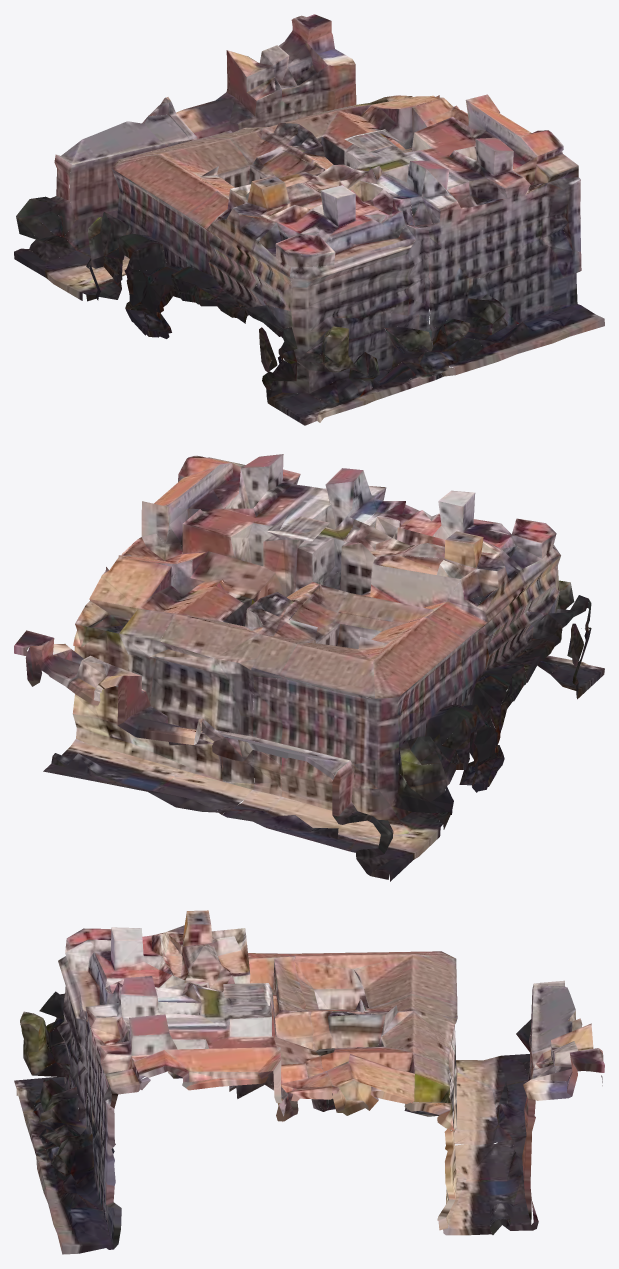
3 renders of one model, top to bottom at view 1: azimuth 30°, elevation 25°; view 2: azimuth 150°, elevation 25°; view 3: azimuth 270°, elevation 25°, orthographic. The views are drawn at different scales.
Visible parts, largest first — view 1: Mesh_0; view 2: Mesh_0; view 3: Mesh_0.
Part boxes in pixels (left/top/right/bottom): Mesh_0: left=14, top=14, right=604, bottom=425; Mesh_0: left=14, top=454, right=604, bottom=881; Mesh_0: left=14, top=910, right=604, bottom=1254.
Size of the model in its own units: 66.55 by 31.46 by 82.53.
2 materials, 2 textured.
